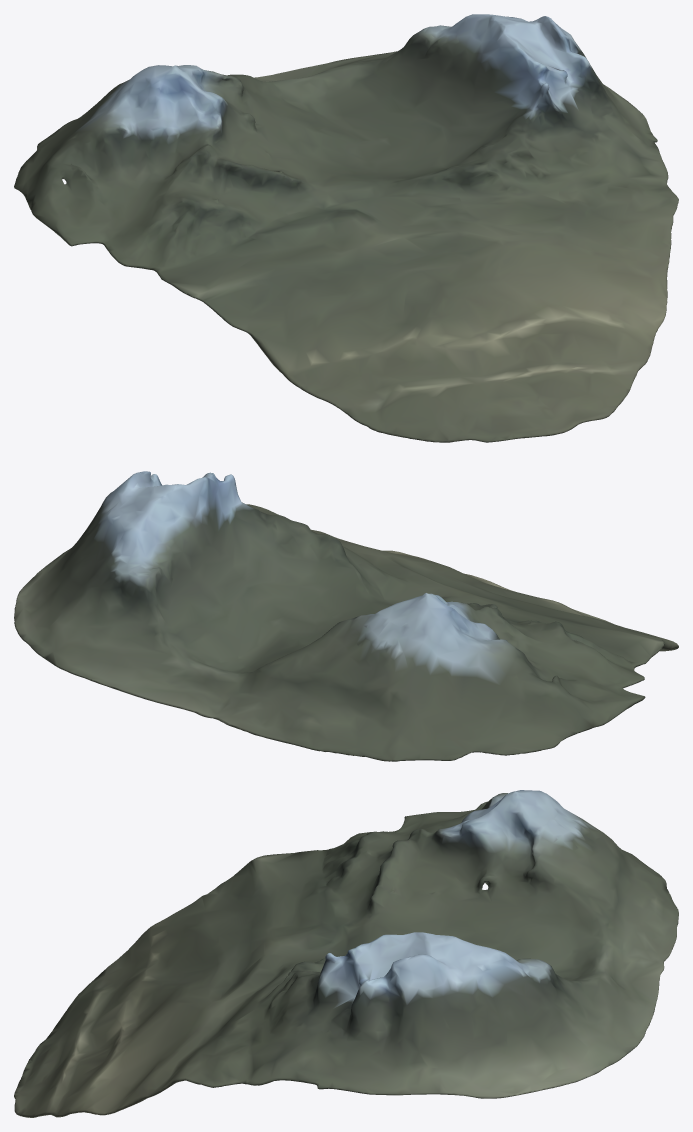
Rendered from faraway_terrain.glb.
3 views of the same model, one above another, from view 1: azimuth 30°, elevation 25°; view 2: azimuth 150°, elevation 25°; view 3: azimuth 270°, elevation 25° (orthographic). The views are drawn at different scales.
Visible parts, largest first — view 1: world; view 2: world; view 3: world.
Boxes of the visible parts, x1=… form: world: x1=14, y1=14, x2=678, y2=442; world: x1=14, y1=471, x2=678, y2=761; world: x1=14, y1=790, x2=678, y2=1117.
Size of the model in its own units: 1 by 0.388 by 0.9974.
